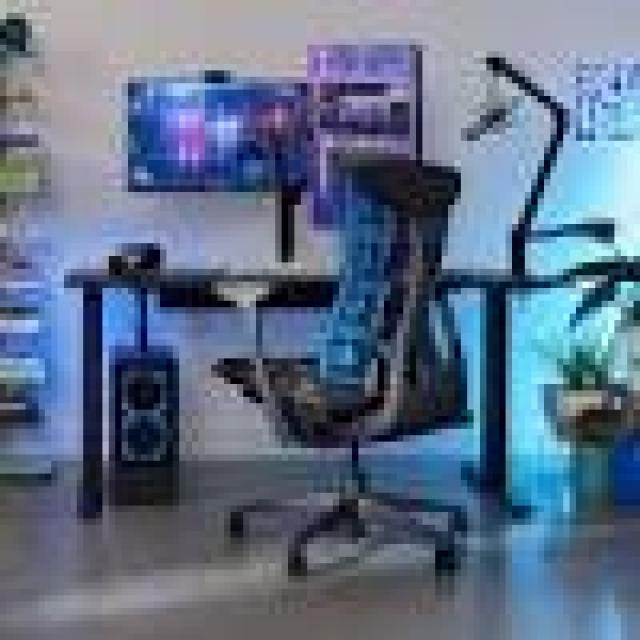chair: (168, 150, 511, 615)
